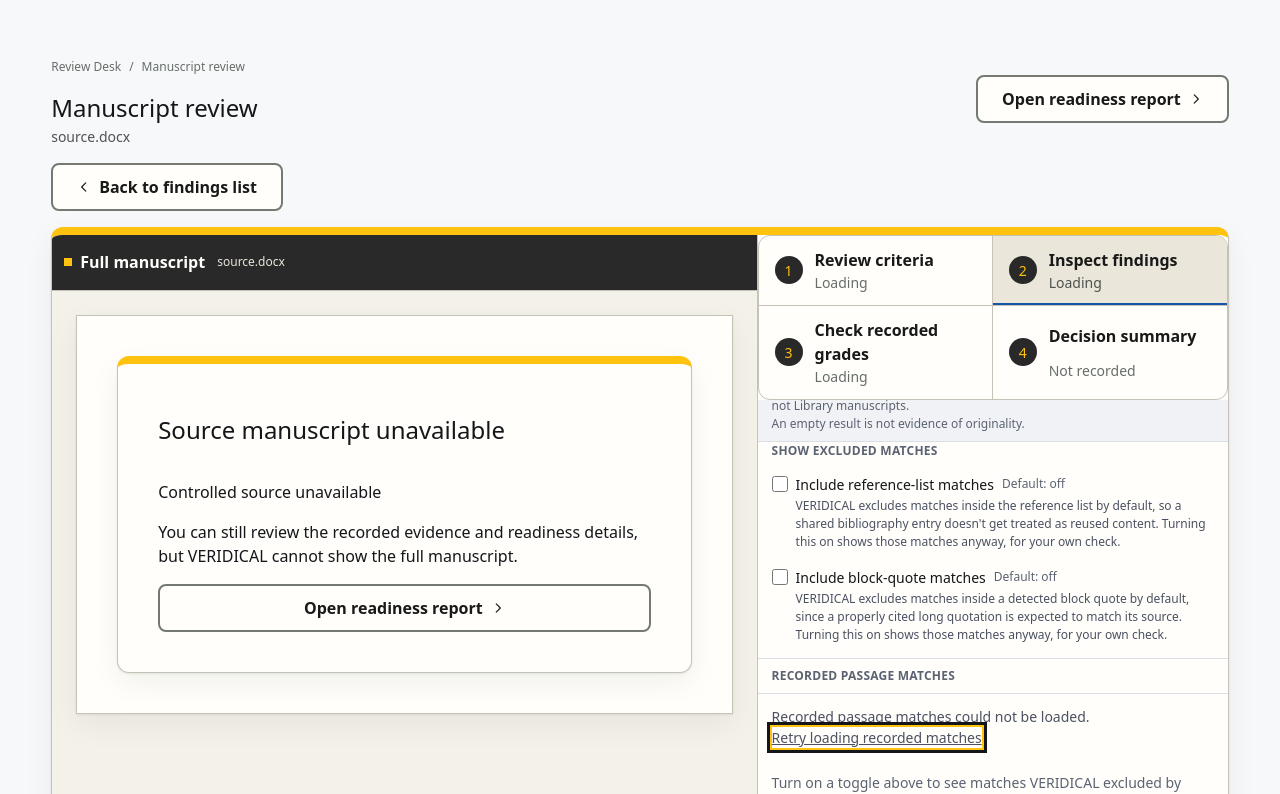
it: V-081: passage comparison display (BUG-434) › keeps direct viewer recorded-query pending, failure and successful-empty states independent of comparison coverage
(page scrolled)
Expected: the text "Loading recorded passage matches." is shown, [772,707,1090,748]
Expected: the text "Comparison coverage: 4 stored comparison passages" is shown, [772,379,1201,414]
Click the button "Retry loading recorded matches".
click(877, 737)  # box [772,727,982,748]
(page scrolled)
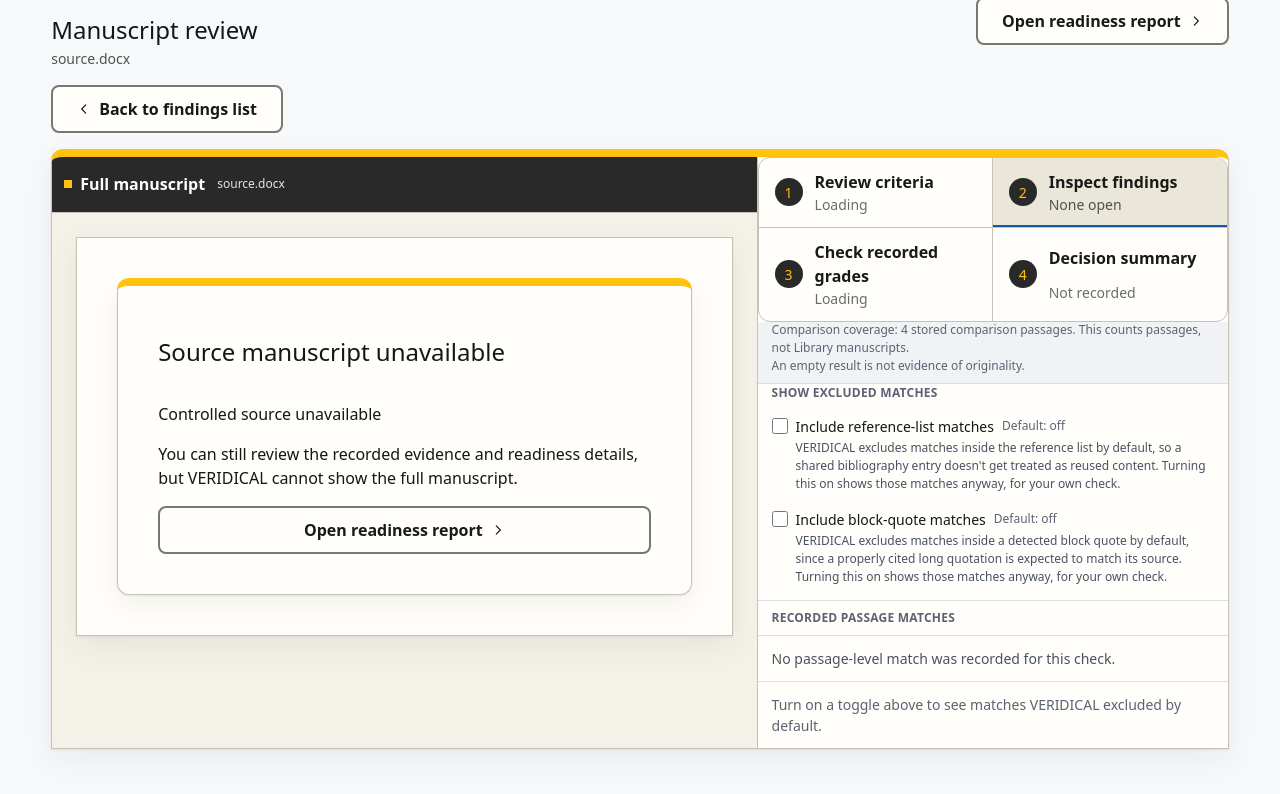
Expected: the text "No passage-level match was recorded for this check." is shown, [758,636,1228,682]
